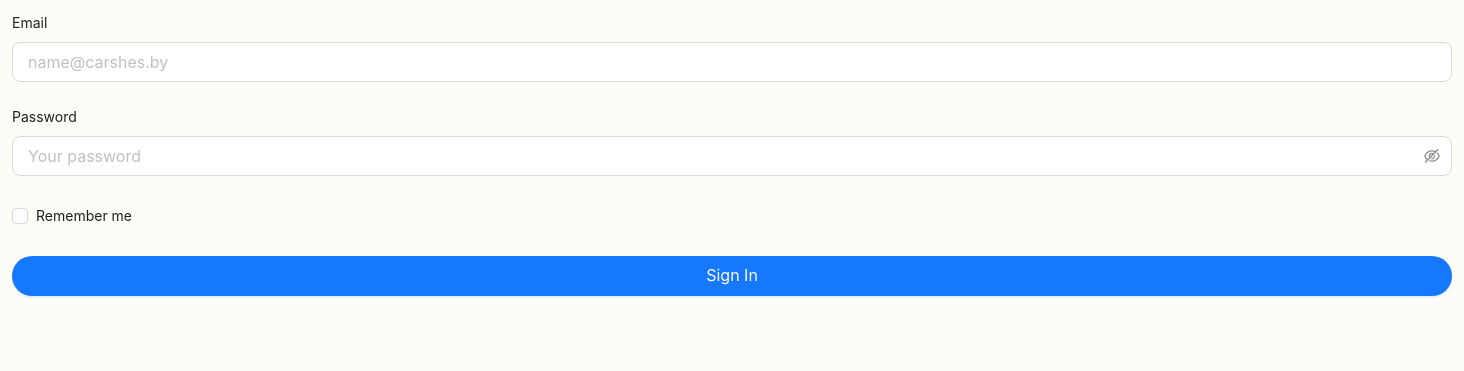
Test: auth forms › SignInForm › shows wrong credentials as a form-level alert
The image size is (1464, 371).
Step 1. Type "vera@carshes.by" into the field labelled "Email" → (734, 62), box [28, 50, 1440, 74]
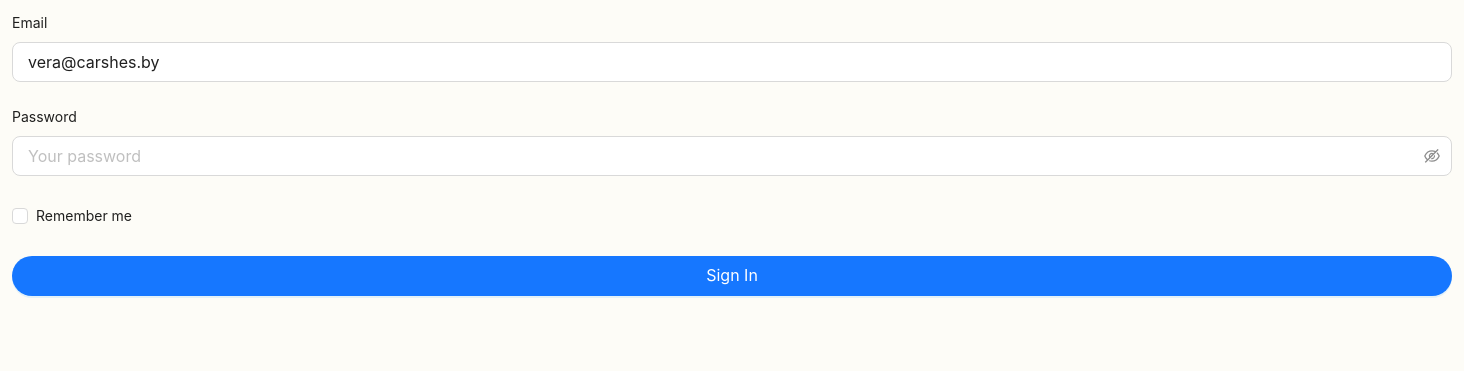
Step 2. Type "password123" into the password field labelled "Password" → (724, 156), box [28, 144, 1420, 168]
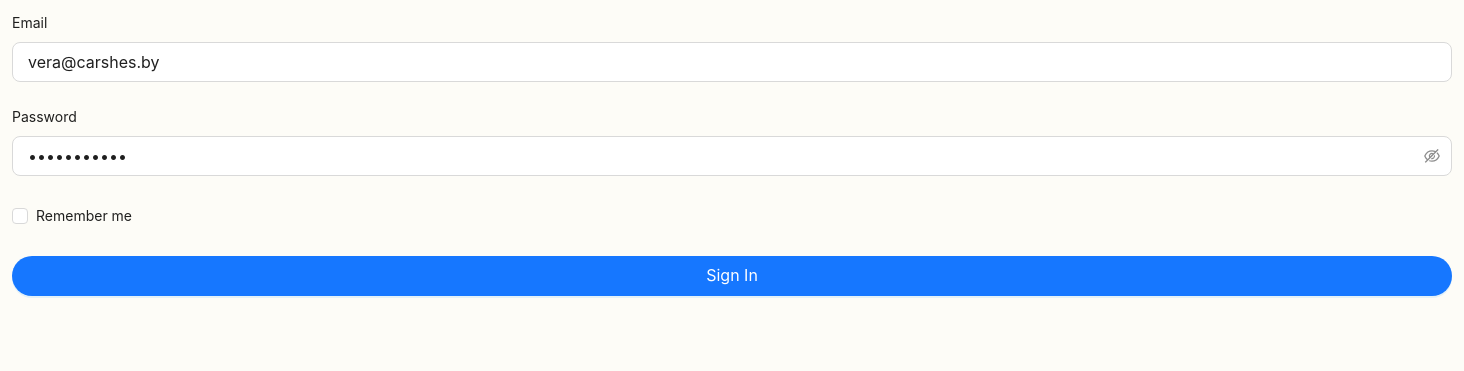
Step 3. Submit the form
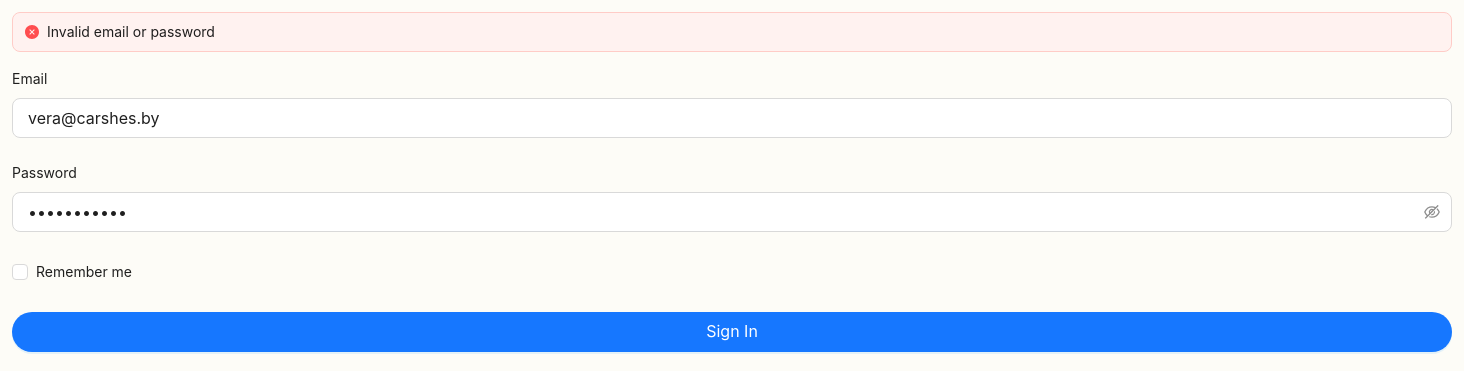
Expected: the message "Invalid email or password" is shown, [12, 12, 1452, 52]
